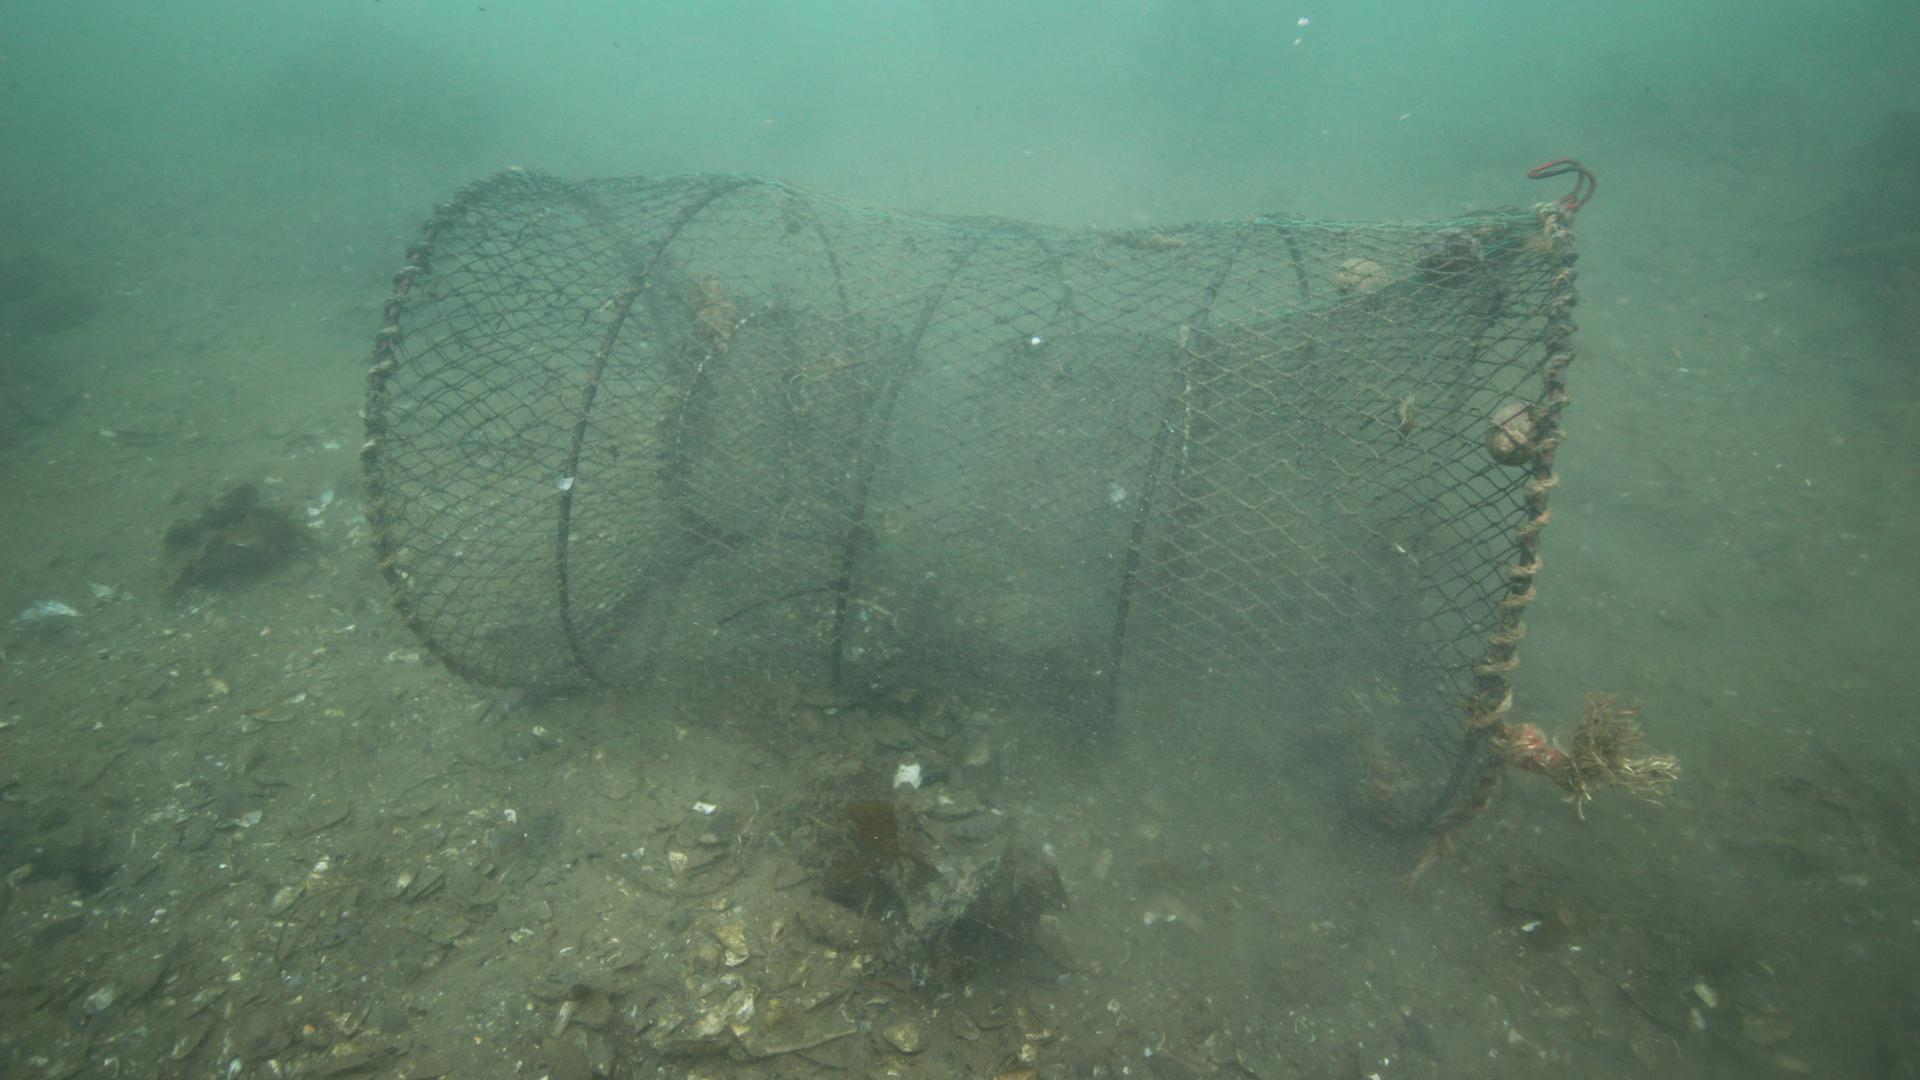spring fish trap: (360, 164, 1581, 847)
